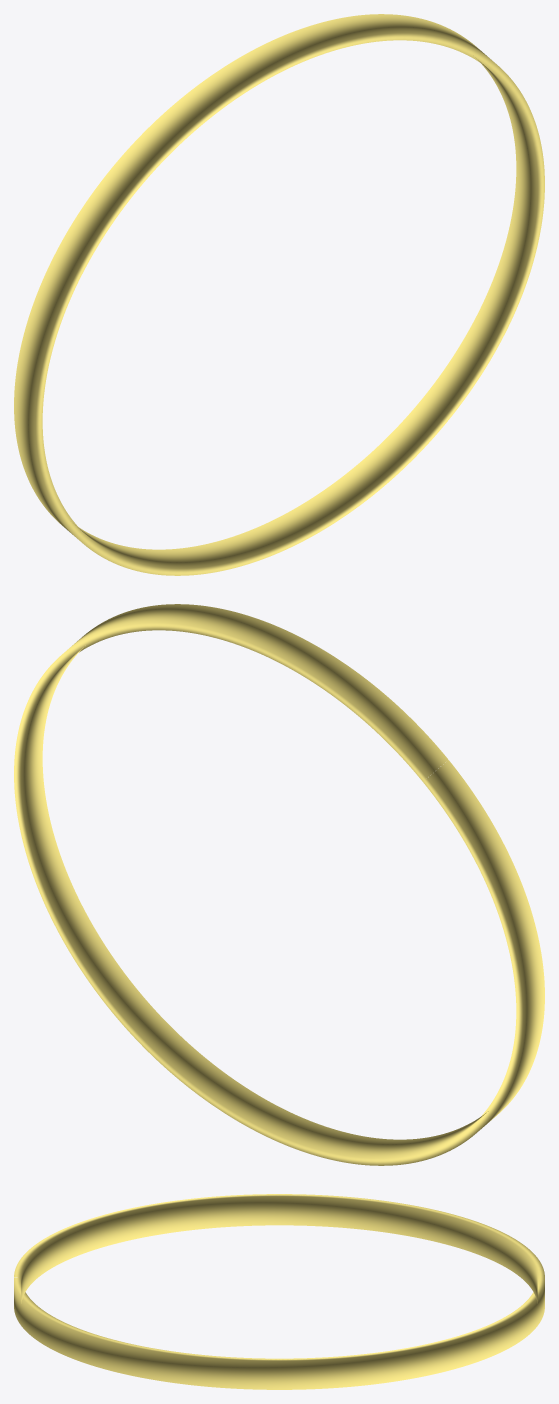
The model's file is coil_coil_11_tube.gltf.
The picture shows the model from 3 angles, top to bottom: view 1: azimuth 30°, elevation 25°; view 2: azimuth 150°, elevation 25°; view 3: azimuth 270°, elevation 25°; orthographic projection. The views are drawn at different scales.
Parts seen in each view (by area): view 1: Renderer Node; view 2: Renderer Node; view 3: Renderer Node.
Boxes of the visible parts, x1,y1,x2,y2 form: Renderer Node: (14,14,544,575); Renderer Node: (14,604,544,1165); Renderer Node: (14,1194,544,1389).
Bounding box in the file's own units: 0.4667 × 0.4428 × 0.6084.
